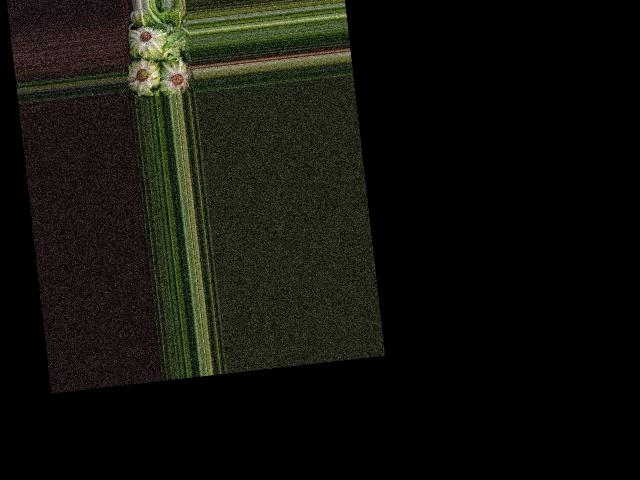lettuce: (156, 58, 191, 96)
